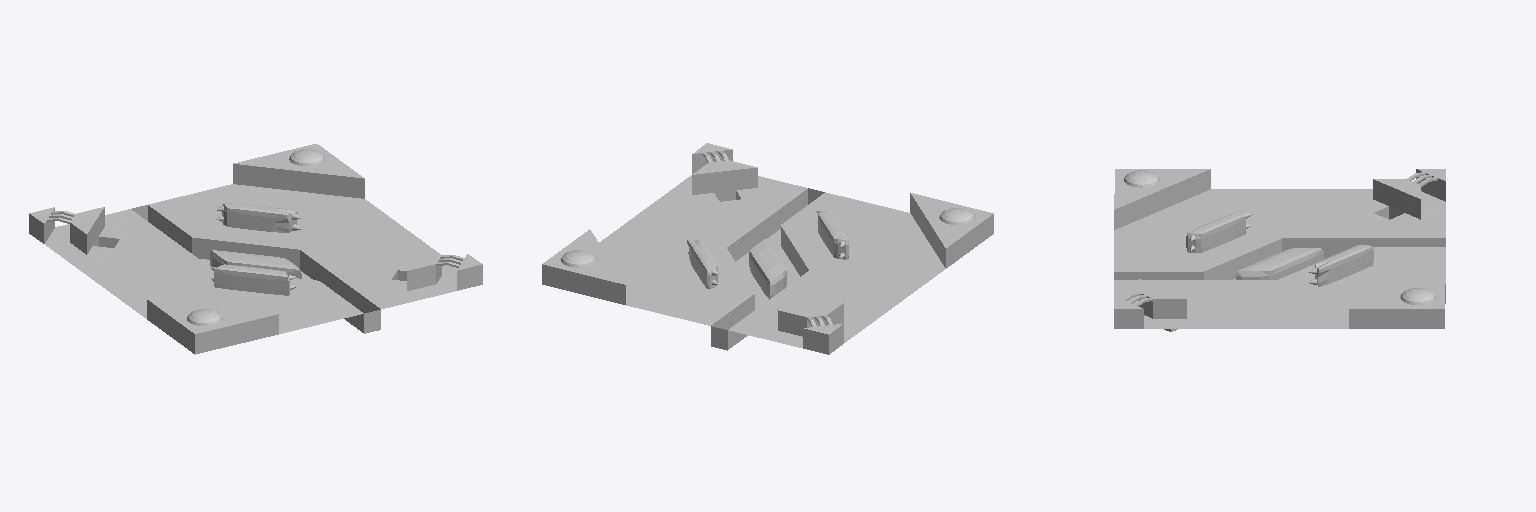
The model's file is map1.obj.
3 renders of one model, left to right at view 1: azimuth 30°, elevation 25°; view 2: azimuth 150°, elevation 25°; view 3: azimuth 270°, elevation 25°, orthographic.
Bounding box in the file's own units: 7.41 × 1.16 × 7.39.